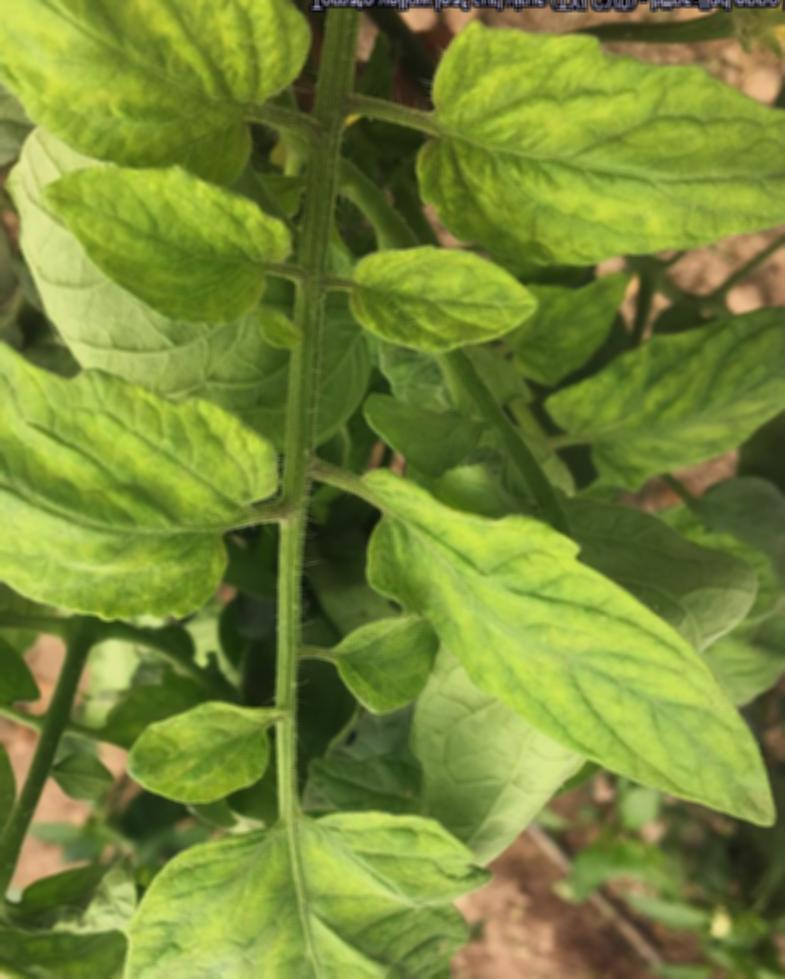Tomato leaf yellow virus: (377, 499, 762, 825), (385, 0, 785, 292), (0, 288, 244, 624), (0, 145, 334, 380), (116, 797, 492, 979)
